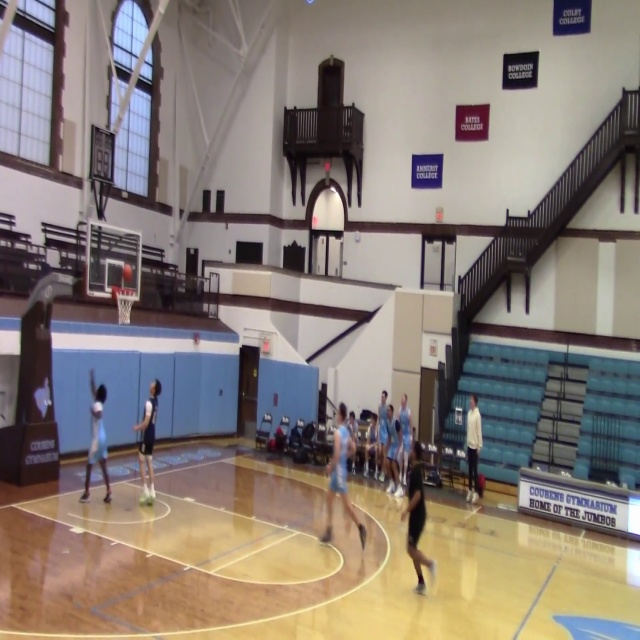Basketball: (122, 263, 132, 281), (346, 439, 356, 457)
